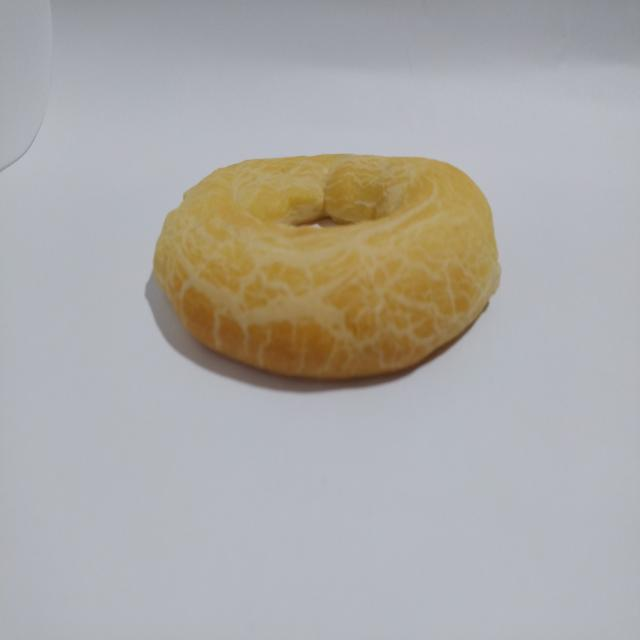Food: (145, 139, 510, 401)
